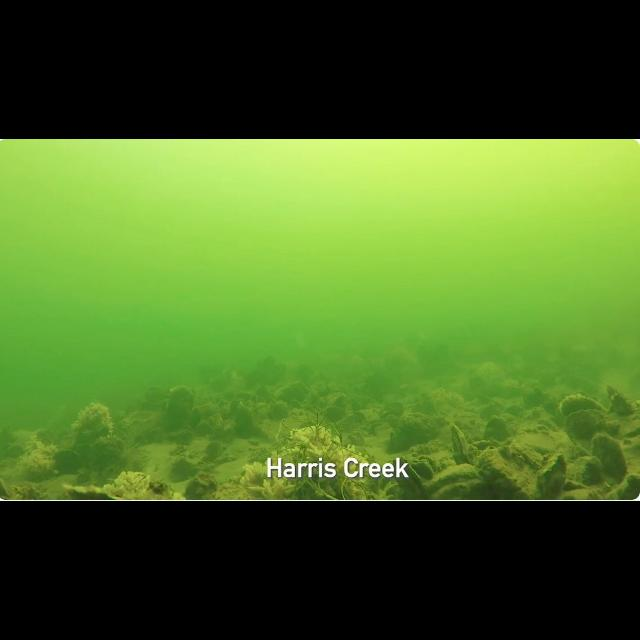Oyster-Closed: (476, 449, 535, 500), (424, 464, 488, 500), (388, 414, 439, 453), (591, 434, 626, 482), (386, 459, 426, 500), (513, 433, 570, 455), (166, 387, 194, 430), (565, 410, 604, 439), (559, 394, 605, 418), (566, 458, 603, 487), (111, 473, 150, 500), (234, 403, 263, 439), (115, 412, 164, 432), (88, 435, 124, 461), (184, 473, 218, 500), (64, 485, 120, 501), (605, 474, 639, 500), (608, 387, 634, 417), (208, 414, 234, 442), (275, 383, 309, 403), (499, 444, 525, 468), (168, 427, 194, 447), (170, 458, 194, 478), (0, 480, 24, 500), (190, 405, 210, 428), (230, 395, 258, 411), (231, 392, 258, 408), (336, 414, 360, 432), (205, 442, 224, 463), (380, 403, 404, 419), (269, 402, 289, 421), (36, 430, 59, 446), (473, 439, 501, 452), (219, 402, 239, 419), (325, 407, 345, 423), (5, 444, 25, 460), (196, 422, 213, 438), (255, 387, 273, 401), (330, 393, 346, 407)
Oyster-Open: (536, 455, 566, 500), (451, 425, 470, 465), (484, 417, 510, 443), (410, 457, 438, 480), (54, 452, 81, 475), (347, 432, 365, 447)
